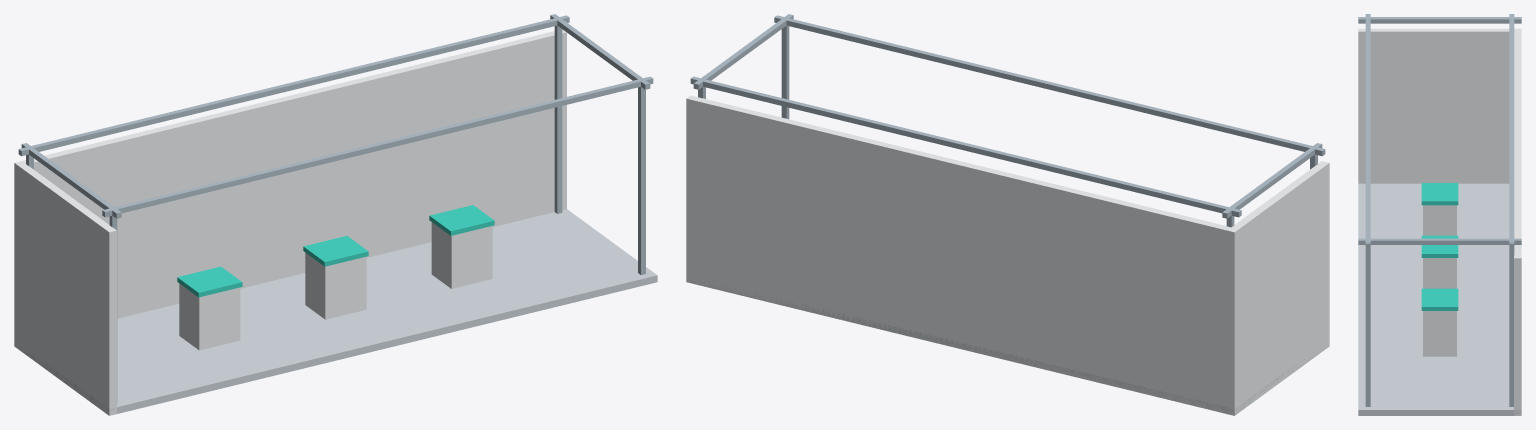
The picture shows the model from 3 angles, left to right: view 1: azimuth 30°, elevation 25°; view 2: azimuth 150°, elevation 25°; view 3: azimuth 270°, elevation 25°; orthographic projection. The views are drawn at different scales.
Parts seen in each view (by area): view 1: Exhibition Booth Concept; view 2: Exhibition Booth Concept; view 3: Exhibition Booth Concept.
Part boxes in pixels (x1=…): Exhibition Booth Concept: x1=14, y1=14, x2=657, y2=415; Exhibition Booth Concept: x1=686, y1=14, x2=1329, y2=415; Exhibition Booth Concept: x1=1358, y1=14, x2=1521, y2=415.
Bounding box in the file's own units: 10 × 3.49 × 3.
